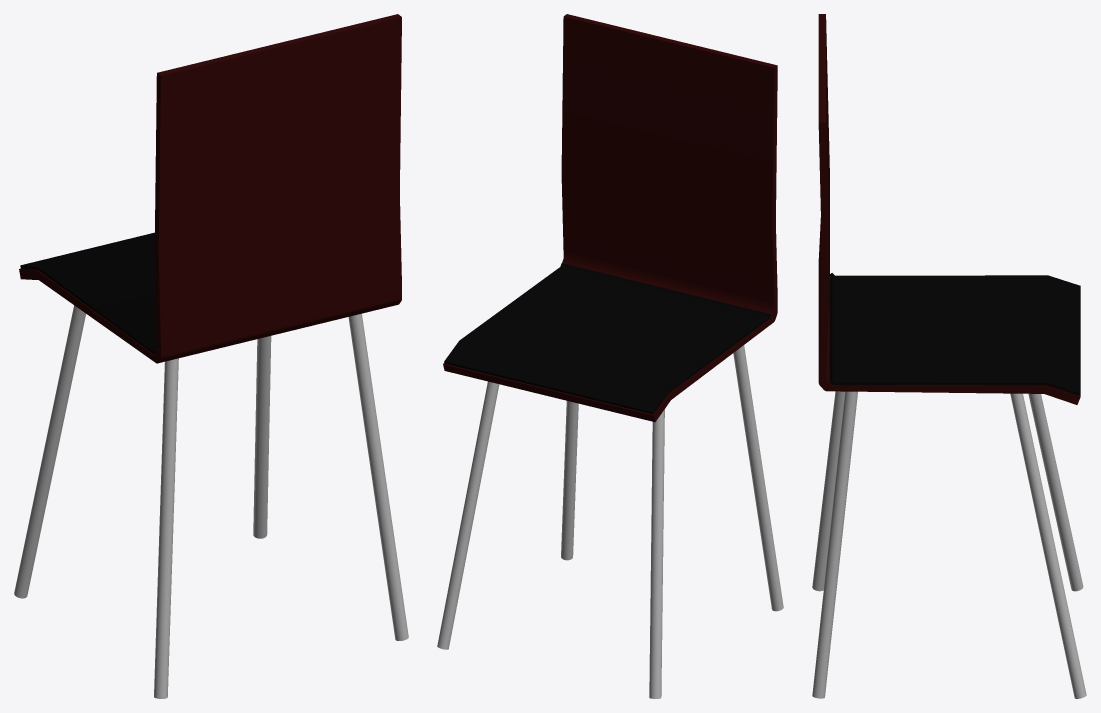
3 renders of one model, left to right at view 1: azimuth 30°, elevation 25°; view 2: azimuth 150°, elevation 25°; view 3: azimuth 270°, elevation 25°, orthographic. The views are drawn at different scales.
Parts seen in each view (by area): view 1: group_0_ID25, group_0_ID17, group_0_ID11, group_0_ID45, group_0_ID3, group_0_ID39; view 2: group_0_ID25, group_0_ID17, group_0_ID3, group_0_ID39, group_0_ID11, group_0_ID45; view 3: group_0_ID17, group_0_ID25, group_0_ID45, group_0_ID39, group_0_ID3, group_0_ID11.
Boxes of the visible parts, box(x1,y1,x2,y2) form: group_0_ID25: box(19, 14, 401, 363); group_0_ID17: box(20, 232, 156, 353); group_0_ID11: box(154, 358, 178, 698); group_0_ID45: box(348, 313, 408, 640); group_0_ID3: box(14, 305, 85, 598); group_0_ID39: box(253, 336, 271, 538); group_0_ID25: box(443, 14, 777, 422); group_0_ID17: box(444, 263, 771, 414); group_0_ID3: box(649, 409, 664, 698); group_0_ID39: box(437, 381, 499, 649); group_0_ID11: box(733, 345, 783, 611); group_0_ID45: box(561, 401, 578, 560); group_0_ID17: box(829, 273, 1080, 395); group_0_ID25: box(818, 14, 1080, 404); group_0_ID45: box(812, 391, 857, 698); group_0_ID39: box(1010, 393, 1086, 698); group_0_ID3: box(1028, 393, 1083, 591); group_0_ID11: box(812, 391, 844, 591).
Bounding box in the file's own units: 0.3636 × 0.8551 × 0.3696.
